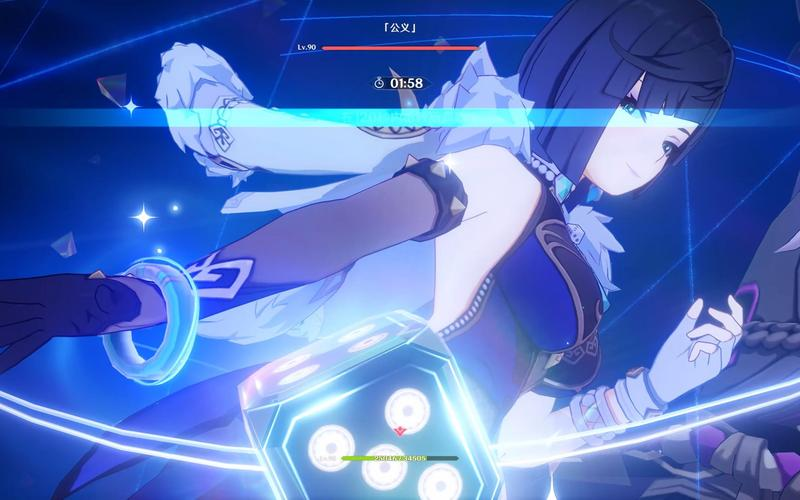夜兰: (1, 8, 744, 500)
